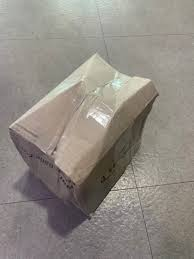damaged package: (98, 79, 153, 160), (52, 83, 103, 165)
